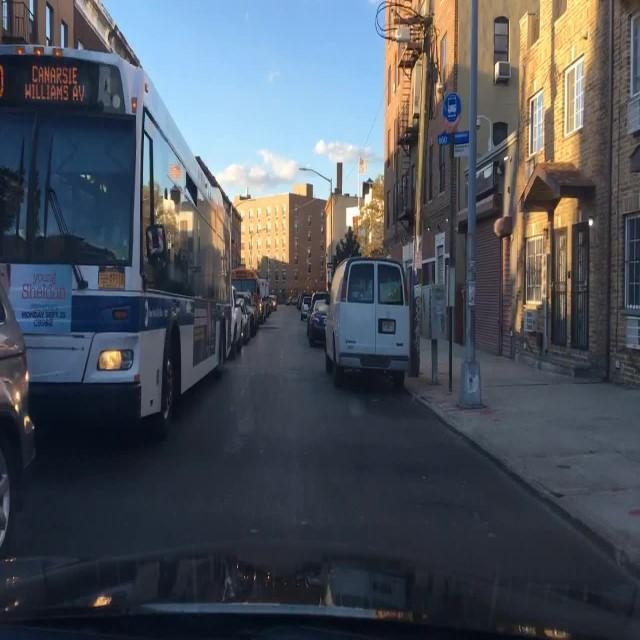normal: (0, 38, 240, 444), (324, 255, 413, 388), (307, 294, 329, 348)
